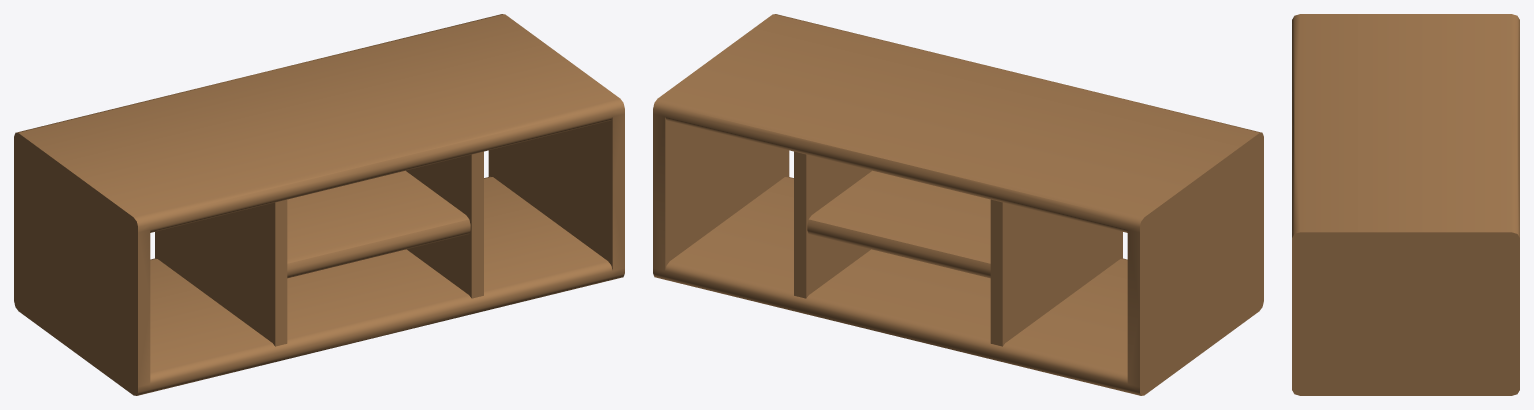
The model's file is Environment_Cabinet_Shelves_2.glb.
The picture shows the model from 3 angles, left to right: view 1: azimuth 30°, elevation 25°; view 2: azimuth 150°, elevation 25°; view 3: azimuth 270°, elevation 25°; orthographic projection. The views are drawn at different scales.
Parts seen in each view (by area): view 1: Environment_Cabinet_Shelves_2; view 2: Environment_Cabinet_Shelves_2; view 3: Environment_Cabinet_Shelves_2.
Boxes of the visible parts, <box> form: Environment_Cabinet_Shelves_2: <box>14,14,624,395</box>; Environment_Cabinet_Shelves_2: <box>653,14,1263,395</box>; Environment_Cabinet_Shelves_2: <box>1292,14,1519,395</box>.
Size of the model in its own units: 4 by 1.4 by 1.77.
1 material, 1 textured.
